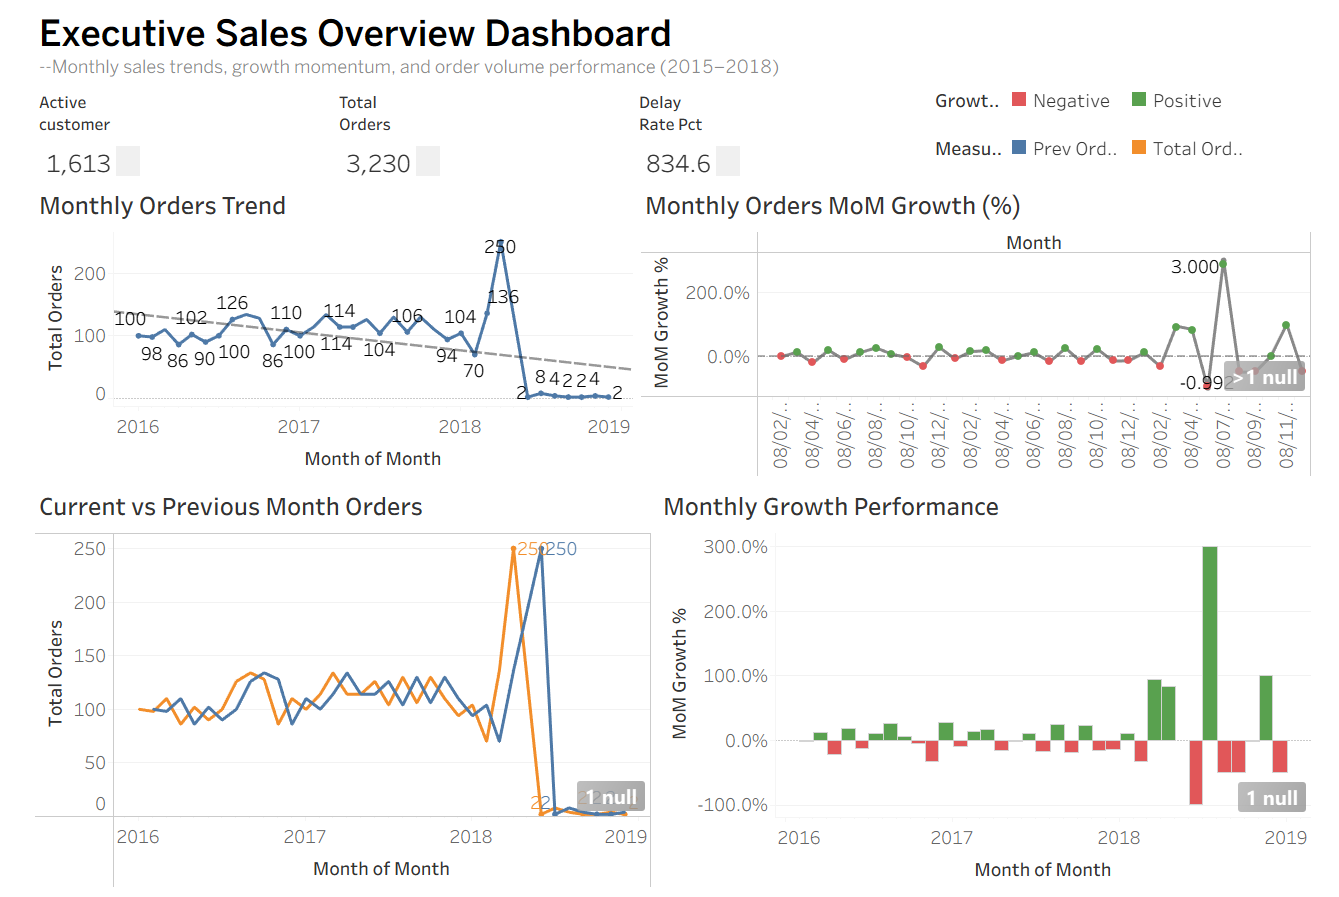

The dashboard page shown, as its layout file describes it:
{"tool":"tableau","page":{"name":"Dashboard 1","canvas":[1300,900],"ordinal":0},"visuals":[{"type":"title","box":[8,8,1284,75]},{"type":"worksheet","title":"Sheet 3","mark":"Automatic","box":[8,83,300,96.8]},{"type":"worksheet","title":"Sheet 2","mark":"Automatic","box":[308,83,300,96.8]},{"type":"worksheet","title":"Sheet 4","mark":"Automatic","box":[608,83,300,96.8]},{"type":"legend","title":"Sheet 14 (2)","param":"[federated.04be5om1sxrf5z14ha1yq028778u].[none:Calculation_1281544382021634:nk]","box":[908,83,384,48.4]},{"type":"legend","title":"Sheet 16","param":"[federated.04be5om1sxrf5z14ha1yq028778u].[:Measure Names]","box":[908,131.4,384,48.4]},{"type":"worksheet","title":"Sheet 15","mark":"Automatic","rows":["total_orders"],"cols":["month"],"box":[8,179.8,606,301.1]},{"type":"worksheet","title":"Sheet 14 (2)","mark":"Line","rows":["Calculation_1281544366940161","Calculation_1281544366940161"],"cols":["month"],"box":[614,179.8,678,301.1]},{"type":"worksheet","title":"Sheet 16","mark":"Automatic","rows":["total_orders","prev_orders"],"cols":["month"],"box":[8,481,624,411]},{"type":"worksheet","title":"Sheet 17","mark":"Bar","rows":["Calculation_1281544366940161"],"cols":["month"],"box":[632,481,660,411]}]}

Visuals, with their boxes on the page's 1300x900 design canvas (x1, y1, x2, y2). These are canvas units, not pixel positions in the 1339x897 screenshot, which may show the page scaled, cropped or inside an application window:
title: box=[8, 8, 1292, 83]
"Sheet 3" worksheet: box=[8, 83, 308, 180]
"Sheet 2" worksheet: box=[308, 83, 608, 180]
"Sheet 4" worksheet: box=[608, 83, 908, 180]
"Sheet 14 (2)" legend: box=[908, 83, 1292, 131]
"Sheet 16" legend: box=[908, 131, 1292, 180]
"Sheet 15" worksheet: box=[8, 180, 614, 481]
"Sheet 14 (2)" worksheet (Line marks): box=[614, 180, 1292, 481]
"Sheet 16" worksheet: box=[8, 481, 632, 892]
"Sheet 17" worksheet (Bar marks): box=[632, 481, 1292, 892]
